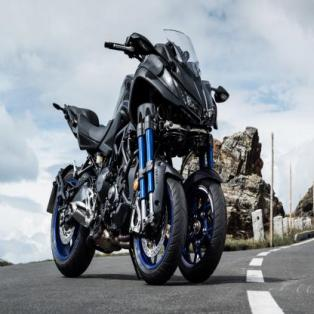Motocicleta: (42, 26, 232, 285)
